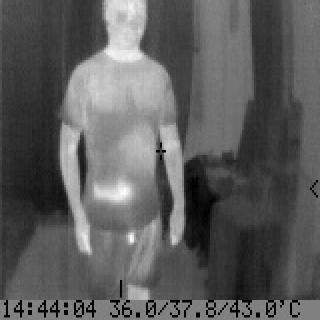Gun: (90, 175, 138, 250)
